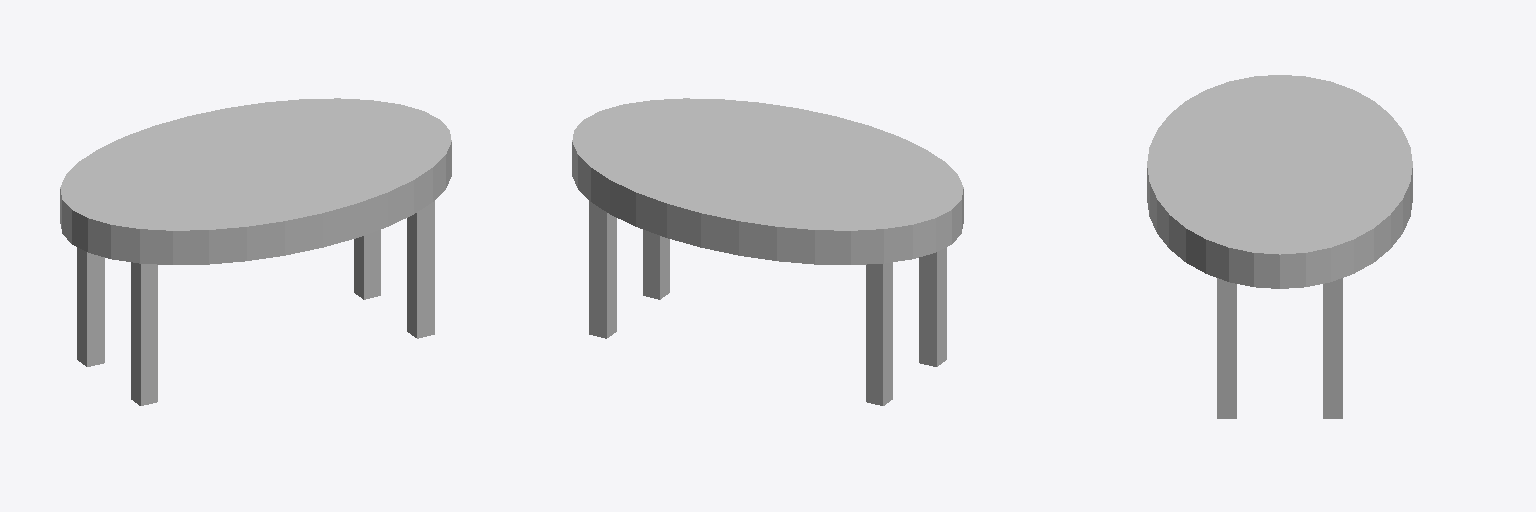
The model's file is table.obj.
3 renders of one model, left to right at view 1: azimuth 30°, elevation 25°; view 2: azimuth 150°, elevation 25°; view 3: azimuth 270°, elevation 25°, orthographic.
Visible parts, largest first — view 1: Cube; view 2: Cube; view 3: Cube.
Part boxes in pixels (left/top/right/bottom): Cube: left=60, top=98, right=451, bottom=405; Cube: left=572, top=98, right=963, bottom=405; Cube: left=1147, top=75, right=1412, bottom=418.
Size of the model in its own units: 0.8 by 0.3789 by 0.5.